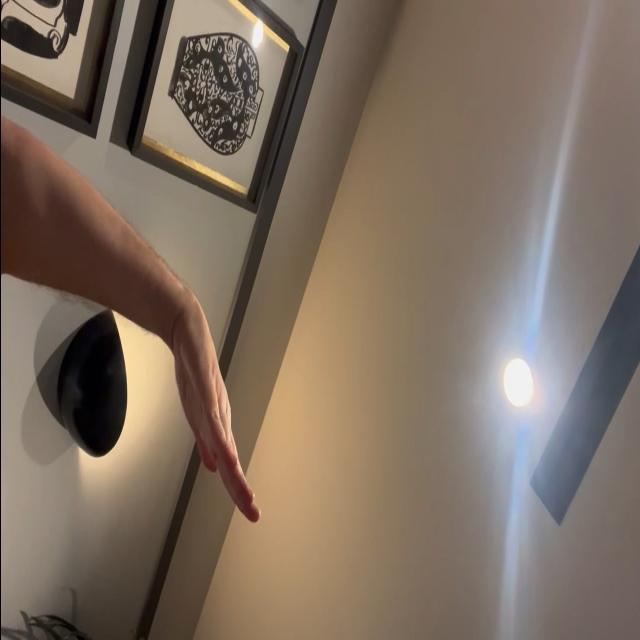Paper: (175, 298, 258, 524)
